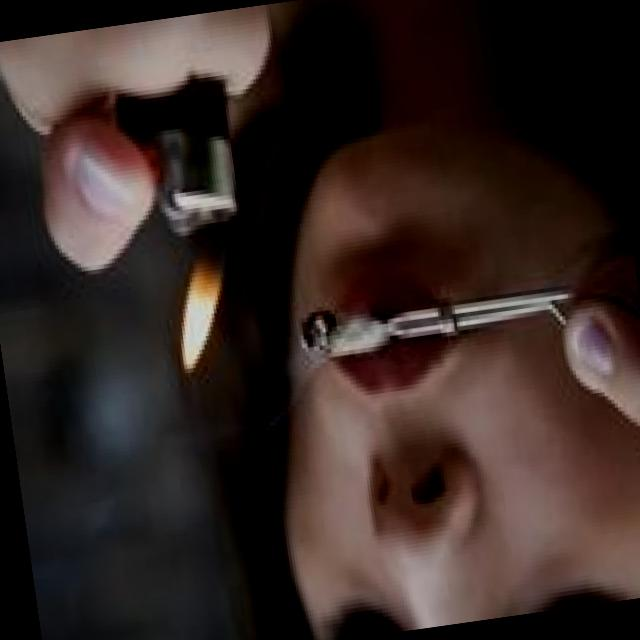smoke: (291, 294, 396, 374)
